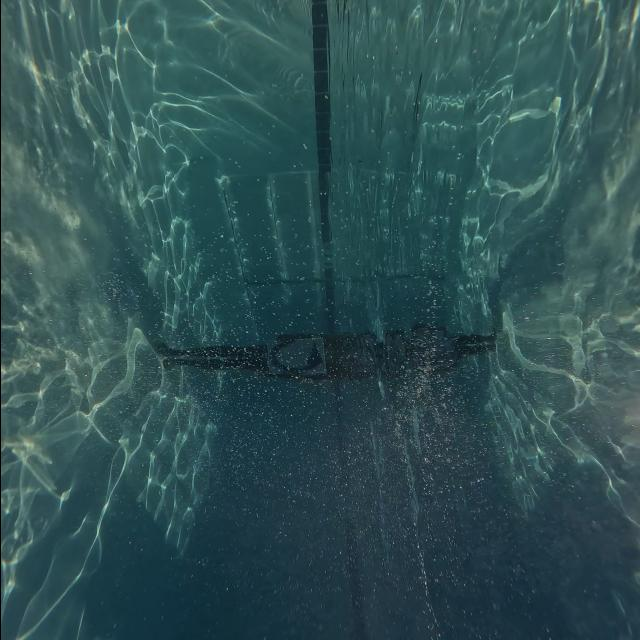blue_side: (262, 333, 328, 378)
